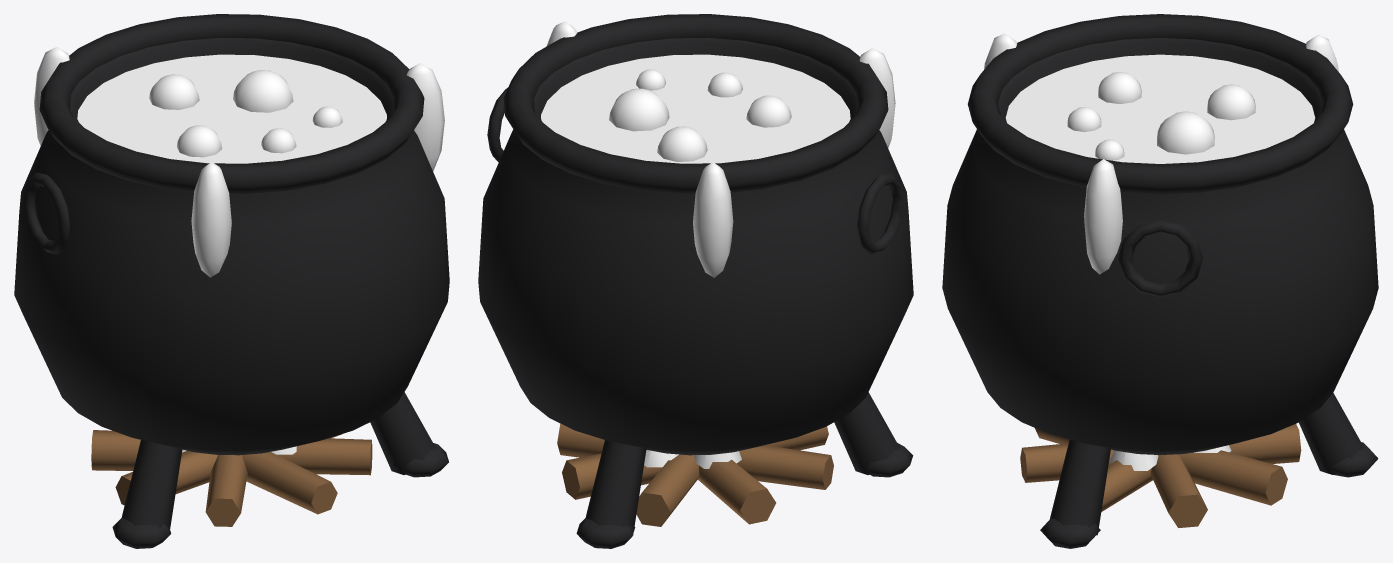
Rendered from CAULDRON.glb.
3 views of the same model, side by side, from view 1: azimuth 30°, elevation 25°; view 2: azimuth 150°, elevation 25°; view 3: azimuth 270°, elevation 25° (orthographic).
Parts seen in each view (by area): view 1: tread_0, slime_1, wood_2; view 2: tread_0, slime_1, wood_2, lamps_3; view 3: tread_0, slime_1, wood_2, lamps_3.
Boxes of the visible parts, <box> form: tread_0: <box>14,14,449,548</box>; slime_1: <box>34,47,444,277</box>; wood_2: <box>91,430,372,526</box>; tread_0: <box>478,14,913,548</box>; slime_1: <box>541,21,895,277</box>; wood_2: <box>557,423,833,526</box>; lamps_3: <box>644,450,741,468</box>; tread_0: <box>942,14,1378,548</box>; slime_1: <box>984,33,1338,274</box>; wood_2: <box>1020,424,1301,527</box>; lamps_3: <box>1110,445,1231,470</box>.
Bounding box in the file's own units: 0.868 × 0.855 × 0.86.
